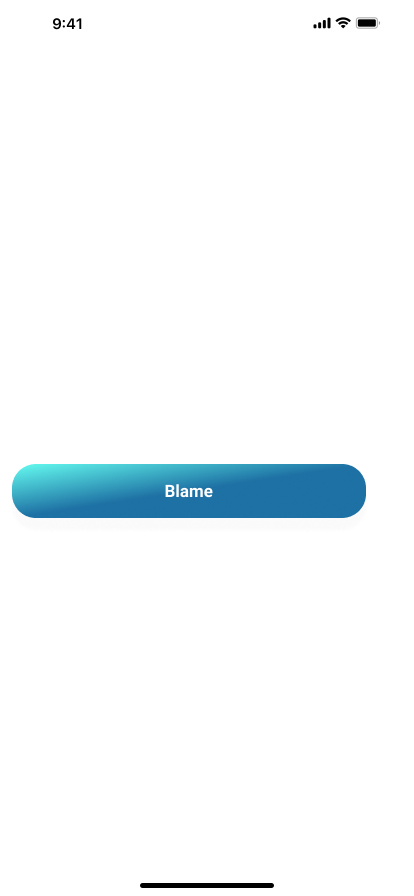Buttons: (8, 464, 374, 534)
Home Indicator: (0, 862, 414, 896)
Status Bar: (0, 0, 414, 44)
